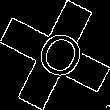O_SW: (24, 23, 86, 87)
